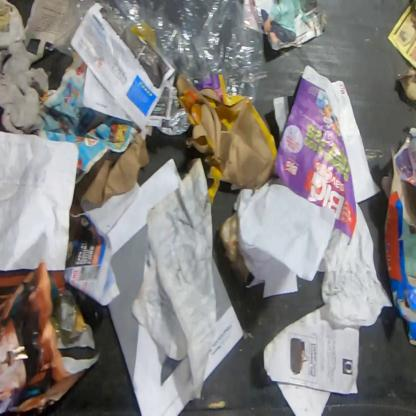cardboard: (380, 126, 415, 348), (77, 130, 151, 208), (396, 66, 415, 106)
soft_plastic: (96, 0, 269, 106), (54, 0, 96, 59), (158, 84, 189, 136)
